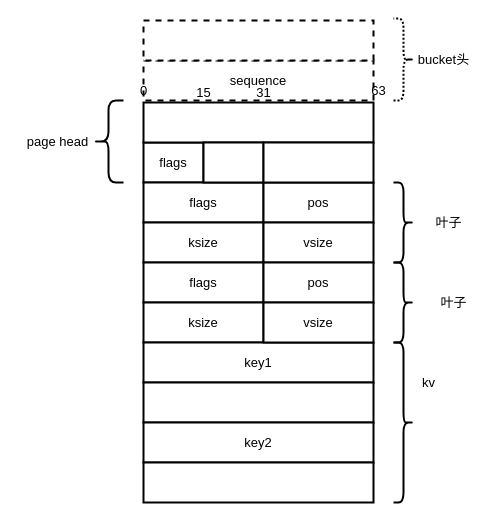
This 495x520 diagram has some shape labels left out. Here are the shapes that lost their labels. From the top down, the box of each, then its label:
(142, 19, 374, 61): root
(142, 101, 374, 143): id
(202, 141, 264, 183): count
(262, 141, 374, 183): overflow
(142, 381, 374, 423): value1
(142, 461, 374, 503): value2
